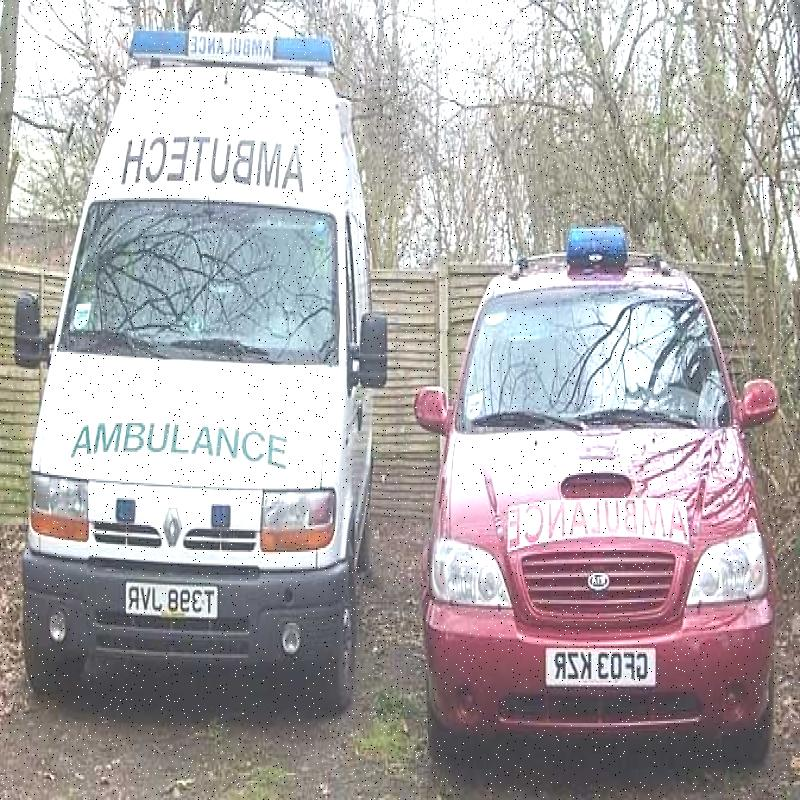AmbulanceSiren: (120, 13, 334, 106), (547, 208, 643, 285)
